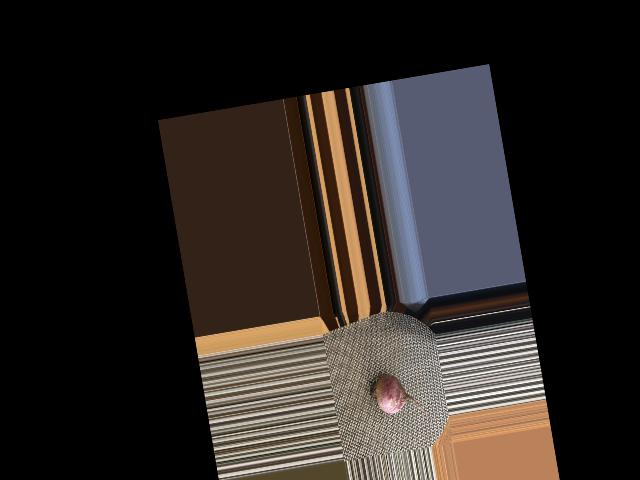beet: (366, 367, 431, 434)
